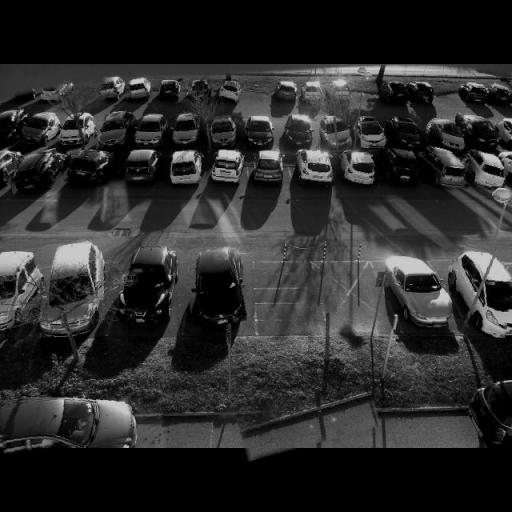busy: (0, 393, 134, 451), (448, 248, 512, 337), (182, 247, 248, 329), (108, 245, 177, 323), (385, 256, 455, 330), (34, 242, 106, 308), (376, 149, 466, 187), (469, 379, 510, 445), (6, 150, 62, 192), (1, 252, 36, 316), (420, 150, 472, 188), (424, 125, 470, 166), (464, 151, 510, 191), (62, 150, 112, 186), (422, 115, 468, 154), (336, 148, 382, 186), (294, 147, 338, 186), (378, 149, 424, 185), (14, 110, 60, 146), (92, 112, 134, 150), (350, 128, 388, 168), (162, 149, 204, 185), (118, 150, 162, 184), (315, 116, 355, 153), (384, 118, 427, 151), (352, 116, 392, 151), (129, 112, 169, 146), (164, 112, 204, 146), (279, 116, 319, 150), (460, 118, 500, 151), (204, 114, 240, 150), (207, 150, 244, 183), (55, 116, 92, 148), (242, 117, 276, 149), (250, 150, 283, 182), (457, 83, 495, 106), (378, 82, 414, 106), (0, 112, 24, 143), (124, 78, 153, 102), (216, 80, 242, 104), (272, 82, 300, 104), (488, 82, 512, 106), (188, 80, 214, 102), (406, 82, 434, 102), (156, 81, 182, 101), (99, 77, 125, 97), (0, 151, 16, 182), (496, 120, 512, 150), (490, 187, 510, 205)
free: (238, 392, 380, 453), (62, 76, 106, 106), (240, 87, 270, 108), (350, 84, 378, 105), (434, 85, 458, 104)
